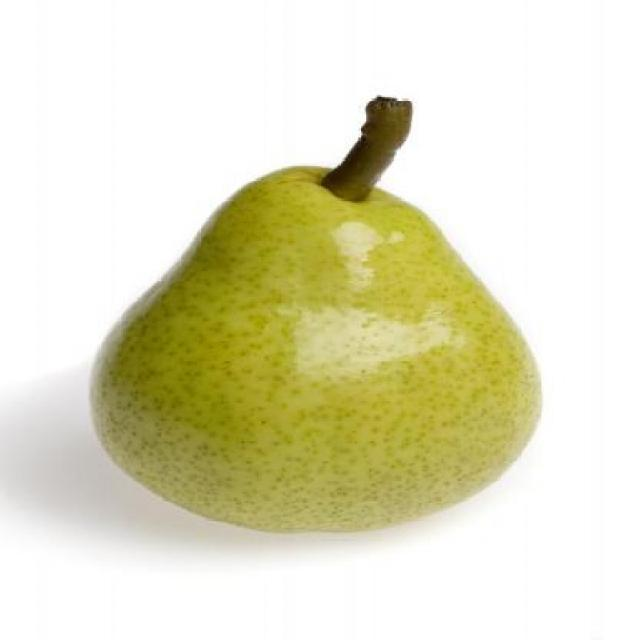Pear: (88, 165, 546, 538)
